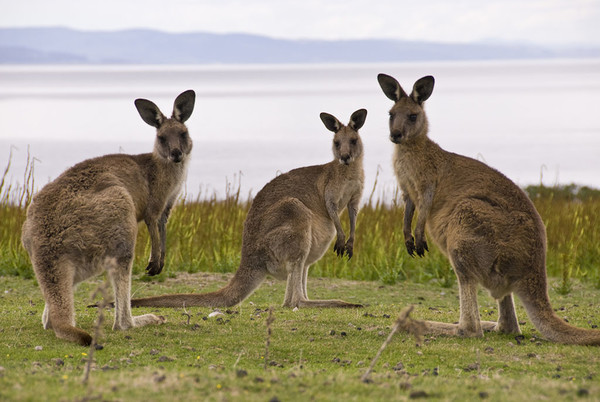kangaroo: (377, 70, 600, 348), (85, 109, 370, 309), (19, 85, 196, 350)
